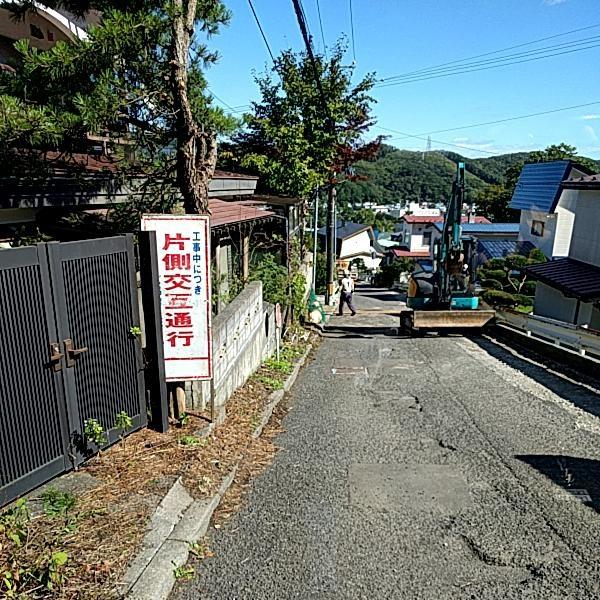pothole: (437, 525, 544, 588), (417, 435, 455, 461)
